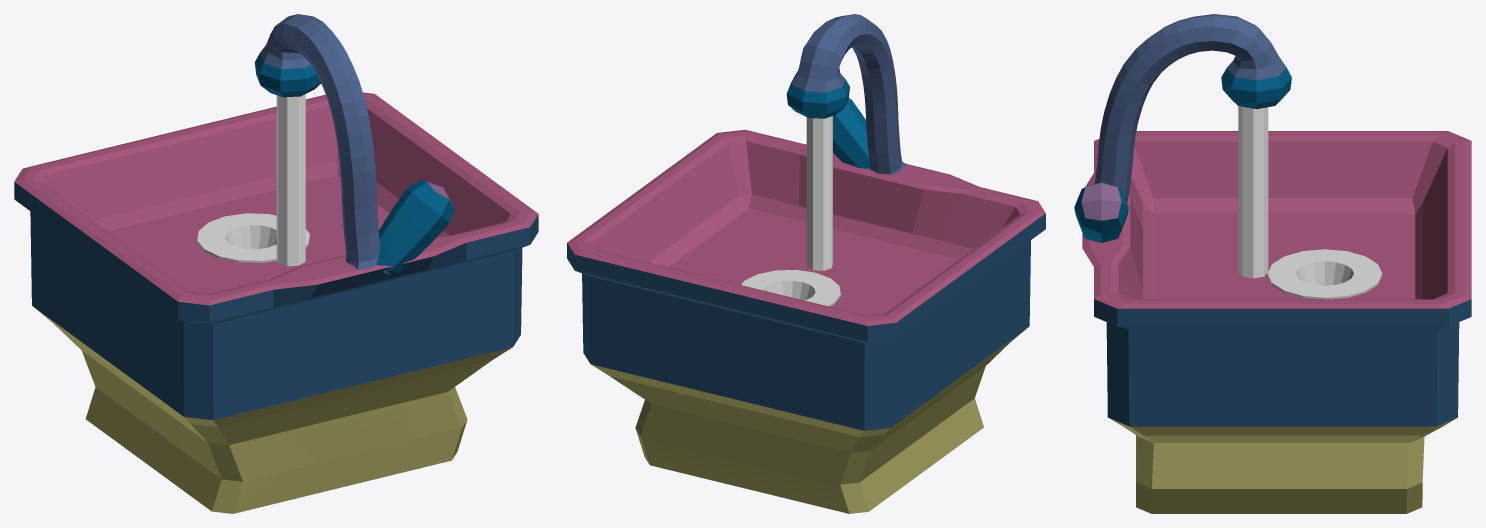
File: Sink - Normal.fbx
3 views of the same model, side by side, from view 1: azimuth 30°, elevation 25°; view 2: azimuth 150°, elevation 25°; view 3: azimuth 270°, elevation 25° (orthographic). The views are drawn at different scales.
Visible parts, largest first — view 1: Cube_001, Vert, Plane_001, Cube_003; view 2: Cube_001, Vert, Plane_001, Cube_003; view 3: Cube_001, Vert, Plane_001, Cube_003.
Part boxes in pixels (x1,y1,x2,y2): Cube_001: [14, 92, 538, 513]; Vert: [254, 14, 454, 275]; Plane_001: [276, 94, 305, 266]; Cube_003: [197, 213, 309, 262]; Cube_001: [567, 129, 1045, 513]; Vert: [786, 14, 907, 174]; Plane_001: [806, 116, 832, 270]; Cube_003: [741, 270, 840, 306]; Cube_001: [1082, 131, 1471, 513]; Vert: [1074, 14, 1291, 242]; Plane_001: [1238, 106, 1268, 278]; Cube_003: [1267, 249, 1382, 299].
Size of the model in its own units: 81.51 by 94.41 by 77.08.
